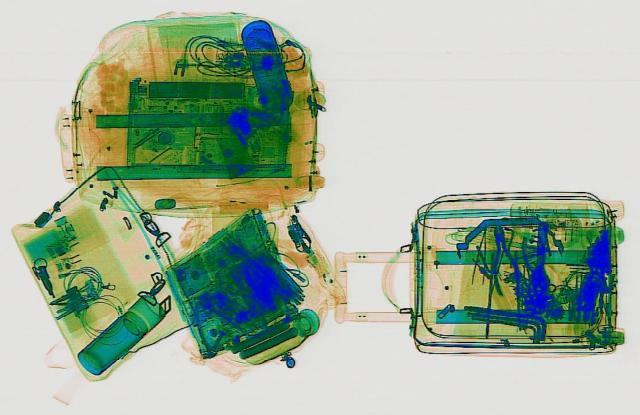Pliers: (486, 223, 522, 296)
